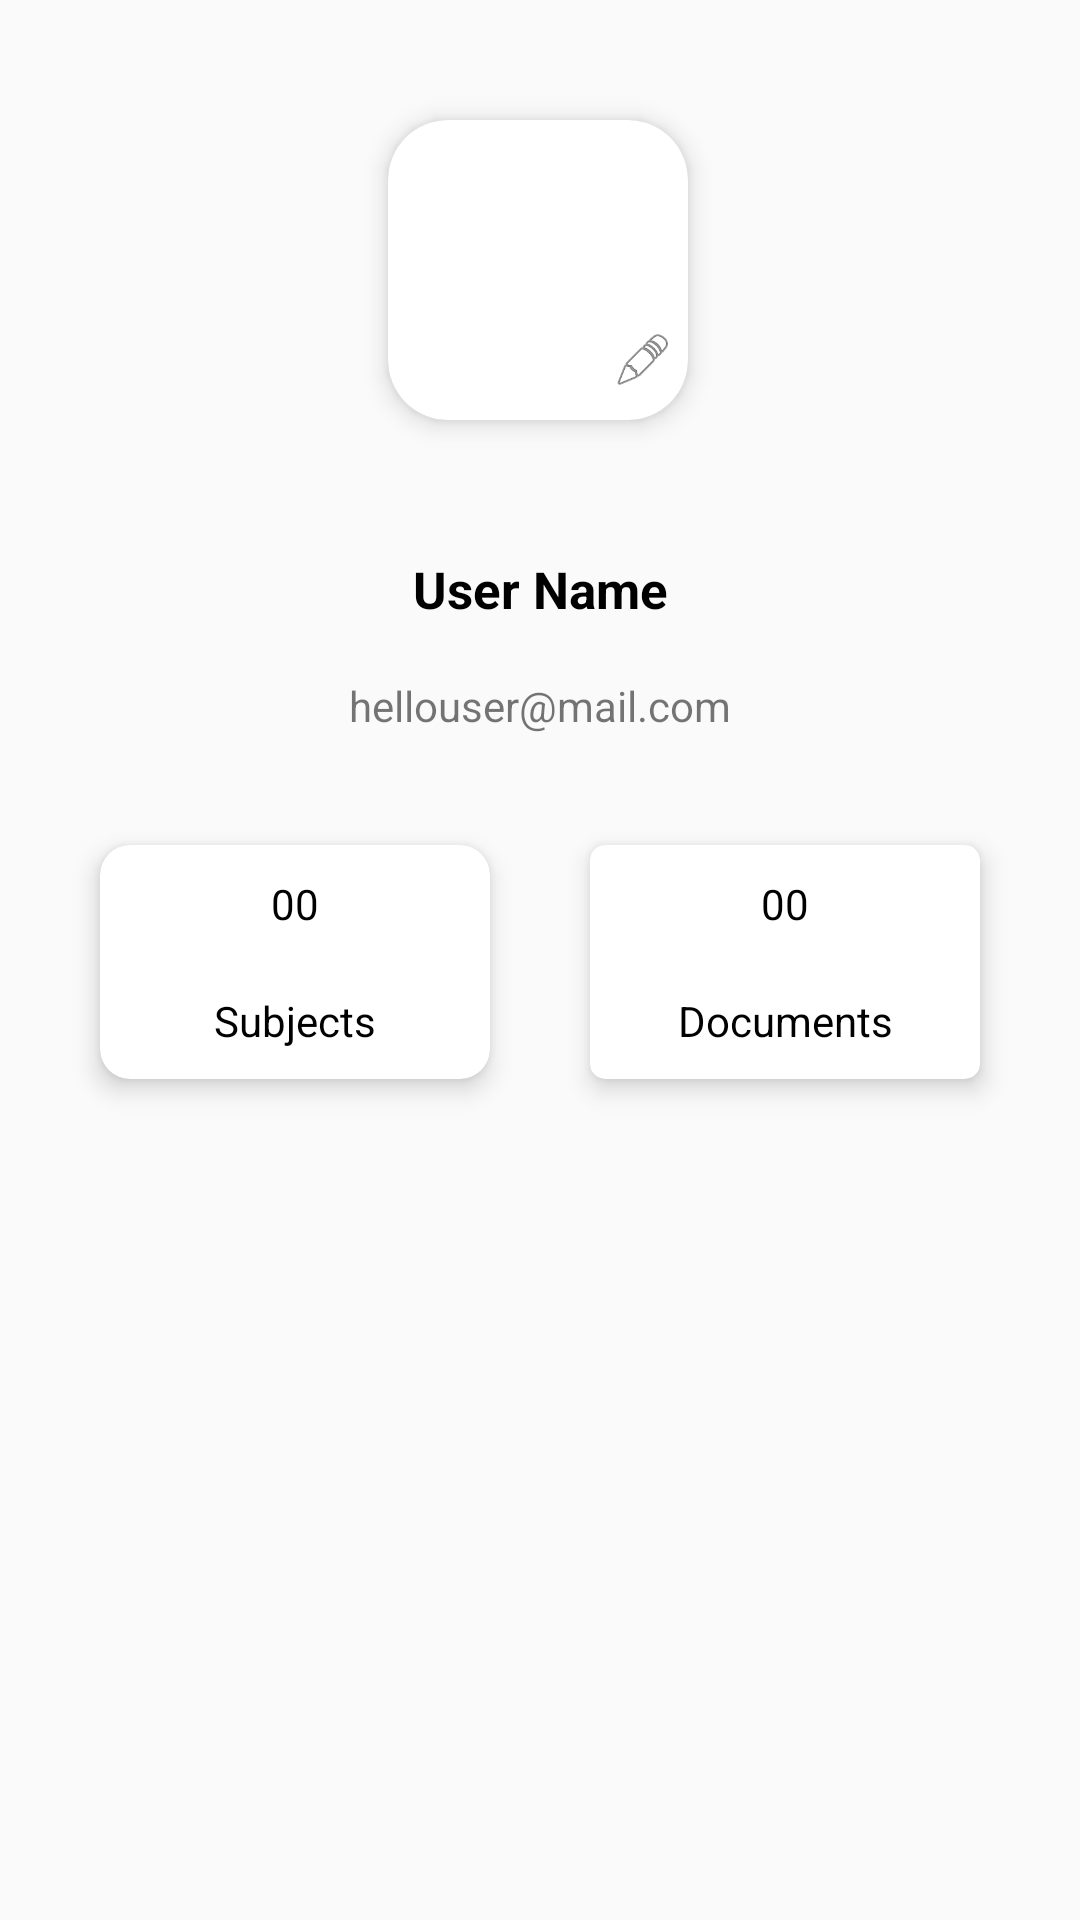

Icon click points for this 1080*1920 phone screenshot, format (x=x, y=y):
edit: (x=642, y=359)
